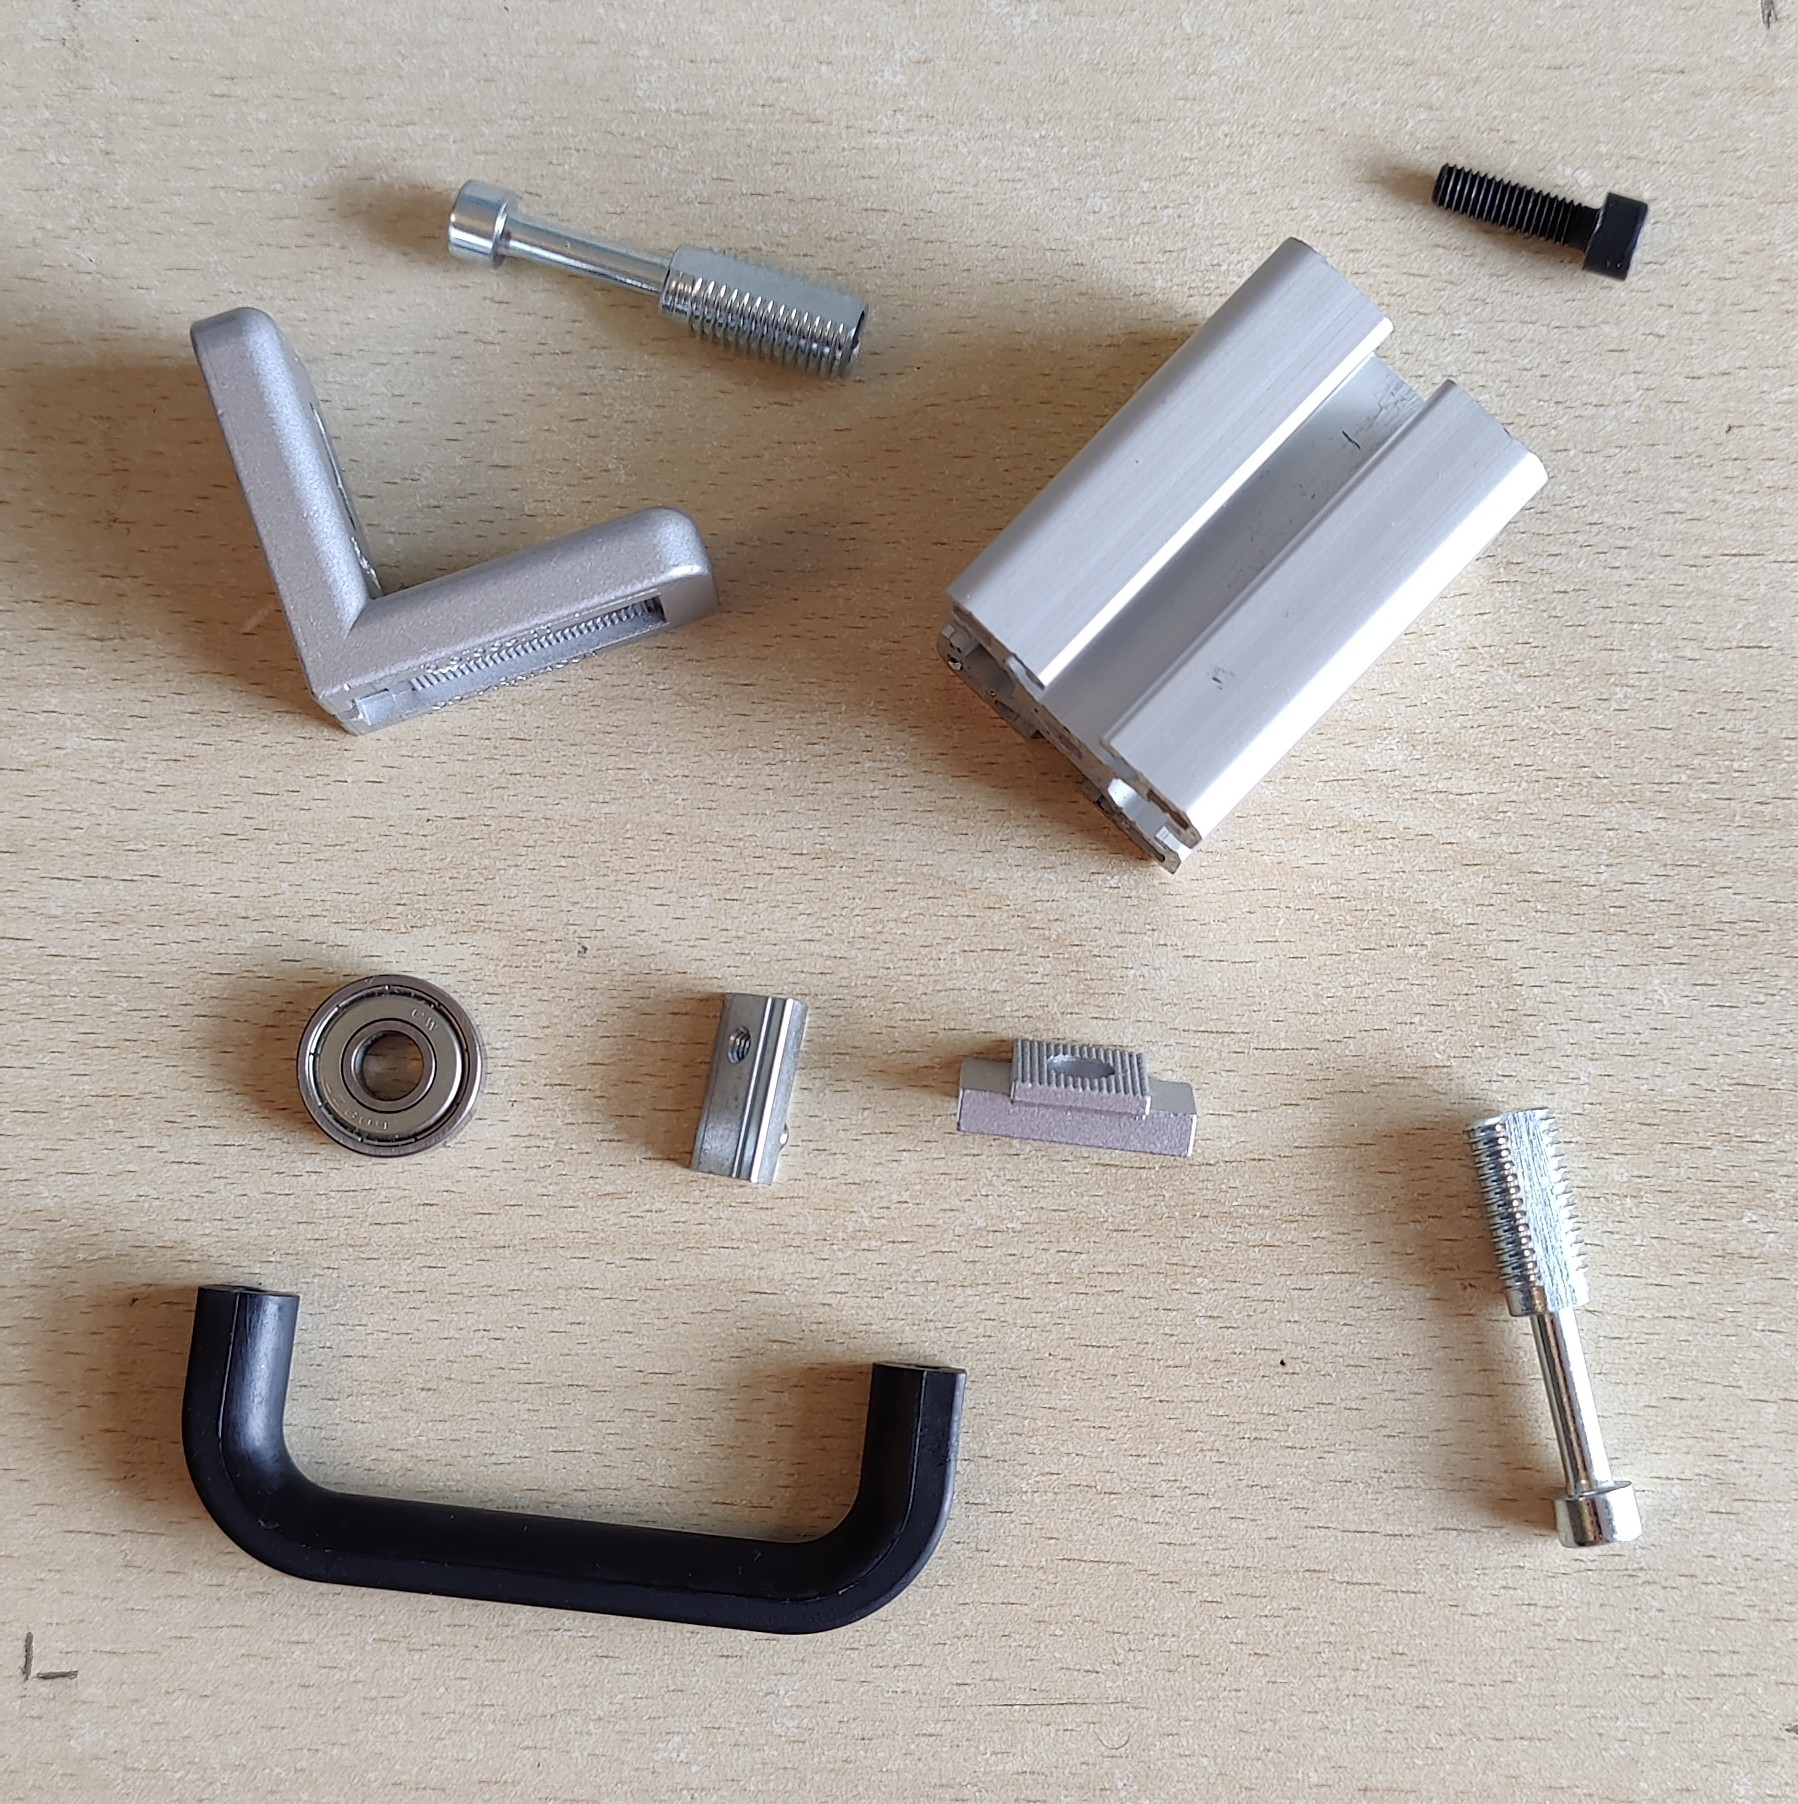Aluminium Extension: (932, 234, 1553, 877)
Ball Bearing: (293, 973, 486, 1162)
Multiwinkel: (184, 303, 726, 742)
Pull Handle: (176, 1279, 970, 1638)
Shoulder Socket Head Cap Screw: (443, 174, 876, 384), (1456, 1100, 1650, 1551)
Socket Head Cap Screw: (1424, 160, 1651, 285)
T Nut Square: (952, 1034, 1202, 1162)
T Spring Nut: (688, 989, 813, 1190)
